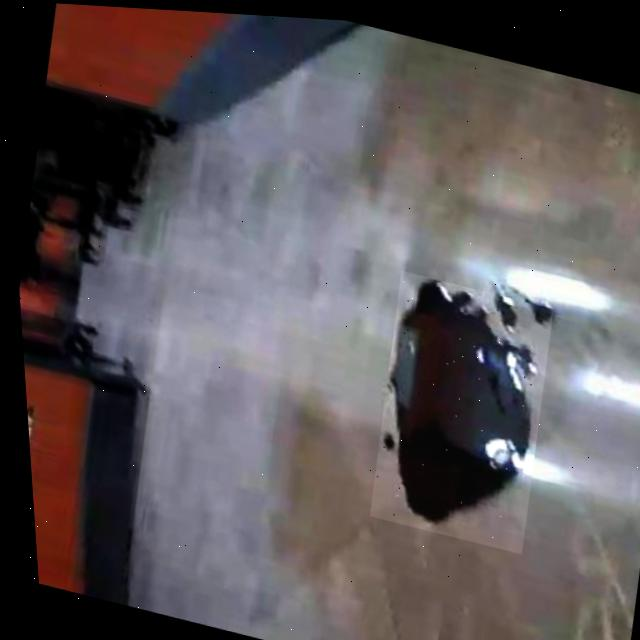spillage: (383, 273, 532, 526)
